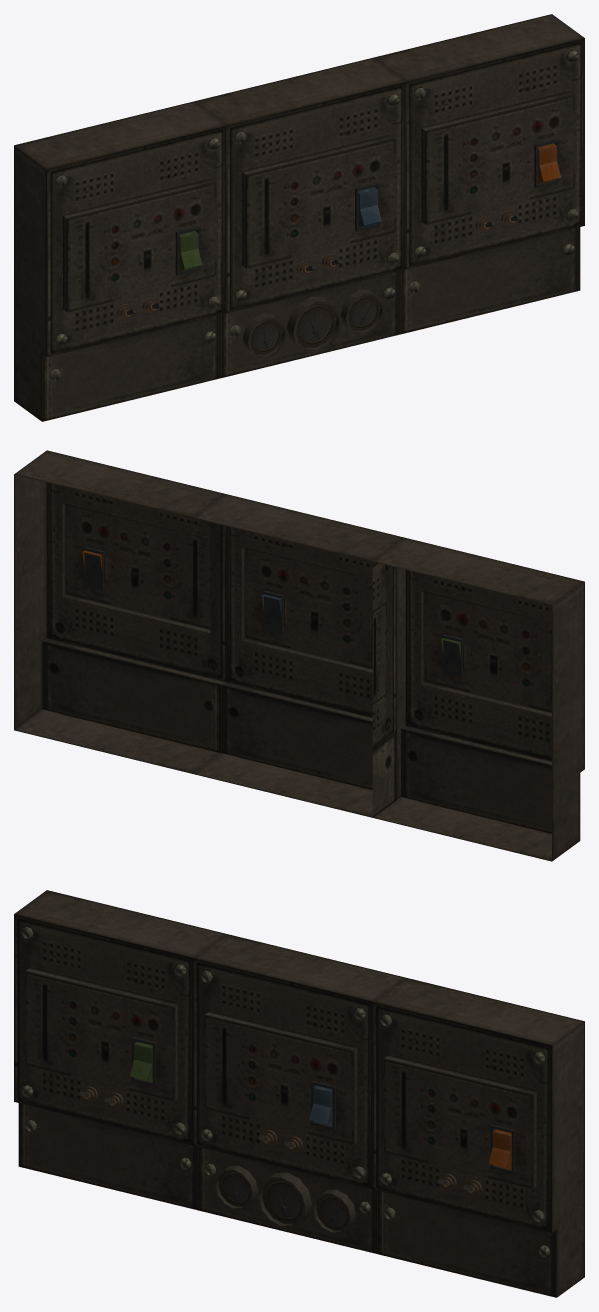
File: panel_etx_2_1.obj
The picture shows the model from 3 angles, top to bottom: view 1: azimuth 30°, elevation 25°; view 2: azimuth 150°, elevation 25°; view 3: azimuth 330°, elevation 25°; orthographic projection.
Visible parts, largest first — view 1: panel_etx_2_1, panel_etx_2_1_button_child_1, panel_etx_2_1_button_child_3, panel_etx_2_1_button_child_2; view 2: panel_etx_2_1; view 3: panel_etx_2_1, panel_etx_2_1_button_child_2, panel_etx_2_1_button_child_3, panel_etx_2_1_button_child_1.
Boxes of the visible parts, bbox=[...] form: panel_etx_2_1: bbox=[14, 14, 584, 421]; panel_etx_2_1_button_child_1: bbox=[179, 231, 202, 271]; panel_etx_2_1_button_child_3: bbox=[538, 143, 560, 183]; panel_etx_2_1_button_child_2: bbox=[359, 187, 381, 227]; panel_etx_2_1: bbox=[14, 450, 584, 861]; panel_etx_2_1: bbox=[14, 890, 584, 1297]; panel_etx_2_1_button_child_2: bbox=[309, 1085, 332, 1126]; panel_etx_2_1_button_child_3: bbox=[489, 1129, 511, 1169]; panel_etx_2_1_button_child_1: bbox=[130, 1042, 152, 1082].
Bounding box in the file's own units: 1.32 × 0.6 × 0.1866.
